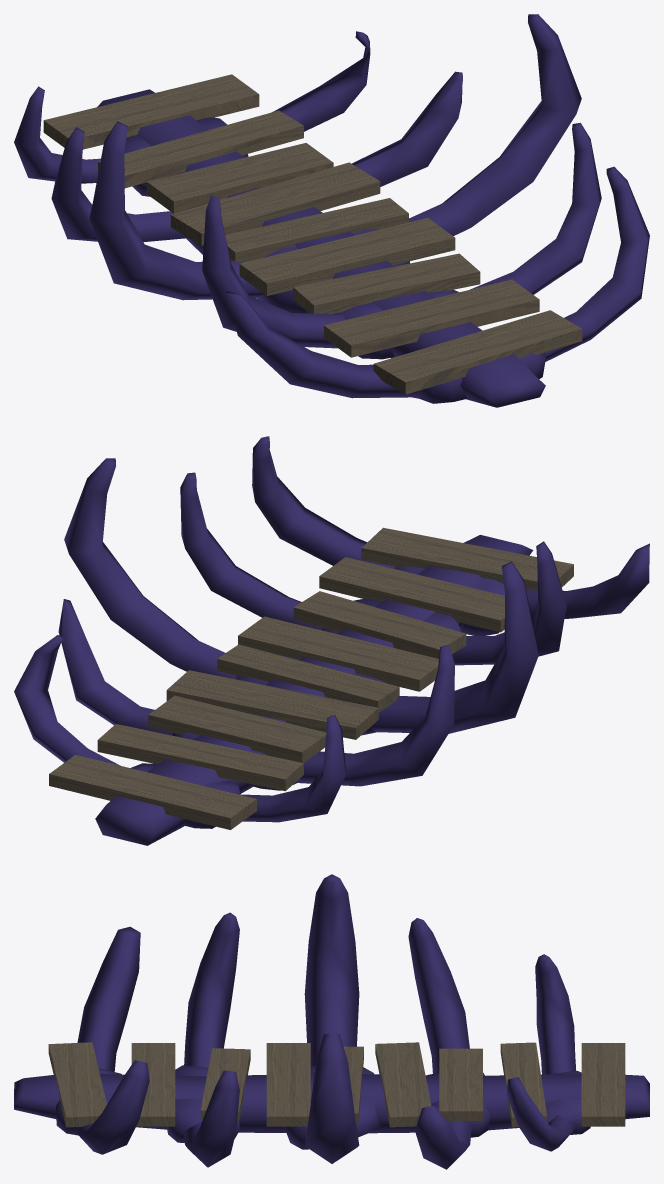
Rendered from Prop_BoneBridge_01.FBX.
3 renders of one model, top to bottom at view 1: azimuth 30°, elevation 25°; view 2: azimuth 150°, elevation 25°; view 3: azimuth 270°, elevation 25°, orthographic. The views are drawn at different scales.
Parts seen in each view (by area): view 1: Prop_BoneBridge_01; view 2: Prop_BoneBridge_01; view 3: Prop_BoneBridge_01.
Part boxes in pixels (x1,y1,x2,y2): Prop_BoneBridge_01: (14, 14, 649, 407); Prop_BoneBridge_01: (14, 436, 649, 845); Prop_BoneBridge_01: (14, 874, 649, 1169).
Bounding box in the file's own units: 4.17 × 1.82 × 5.81.
Materials: 2 (1 with a texture image).
